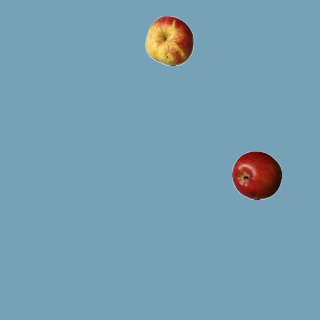Apple Braeburn: (231, 150, 281, 200)
Apple Red Yellow 1: (144, 15, 194, 65)
